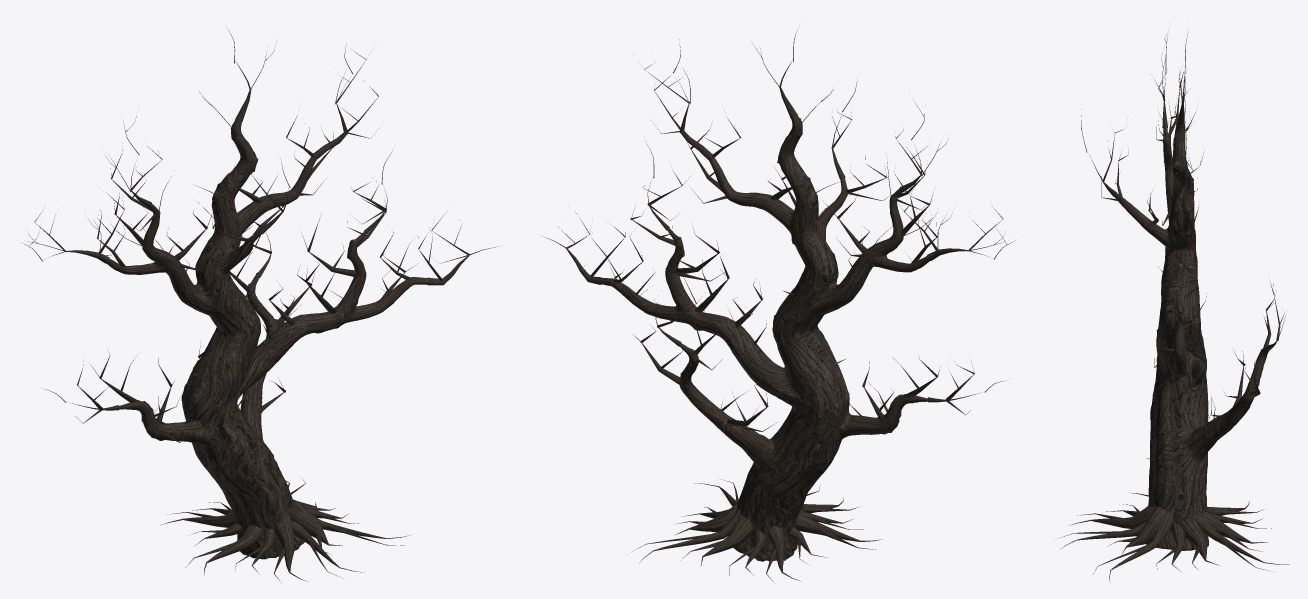
The model's file is tree-v6.glb.
3 views of the same model, side by side, from view 1: azimuth 30°, elevation 25°; view 2: azimuth 150°, elevation 25°; view 3: azimuth 270°, elevation 25° (orthographic). The views are drawn at different scales.
Visible parts, largest first — view 1: Sculpted bark roots and fine branches; view 2: Sculpted bark roots and fine branches; view 3: Sculpted bark roots and fine branches.
Part boxes in pixels (box(x1,y1,x2,y2)): Sculpted bark roots and fine branches: box(22, 28, 498, 582); Sculpted bark roots and fine branches: box(543, 30, 1015, 581); Sculpted bark roots and fine branches: box(1060, 30, 1289, 581).
Size of the model in its own units: 6.29 by 6.68 by 2.84.
Materials: 1 (1 with a texture image).
